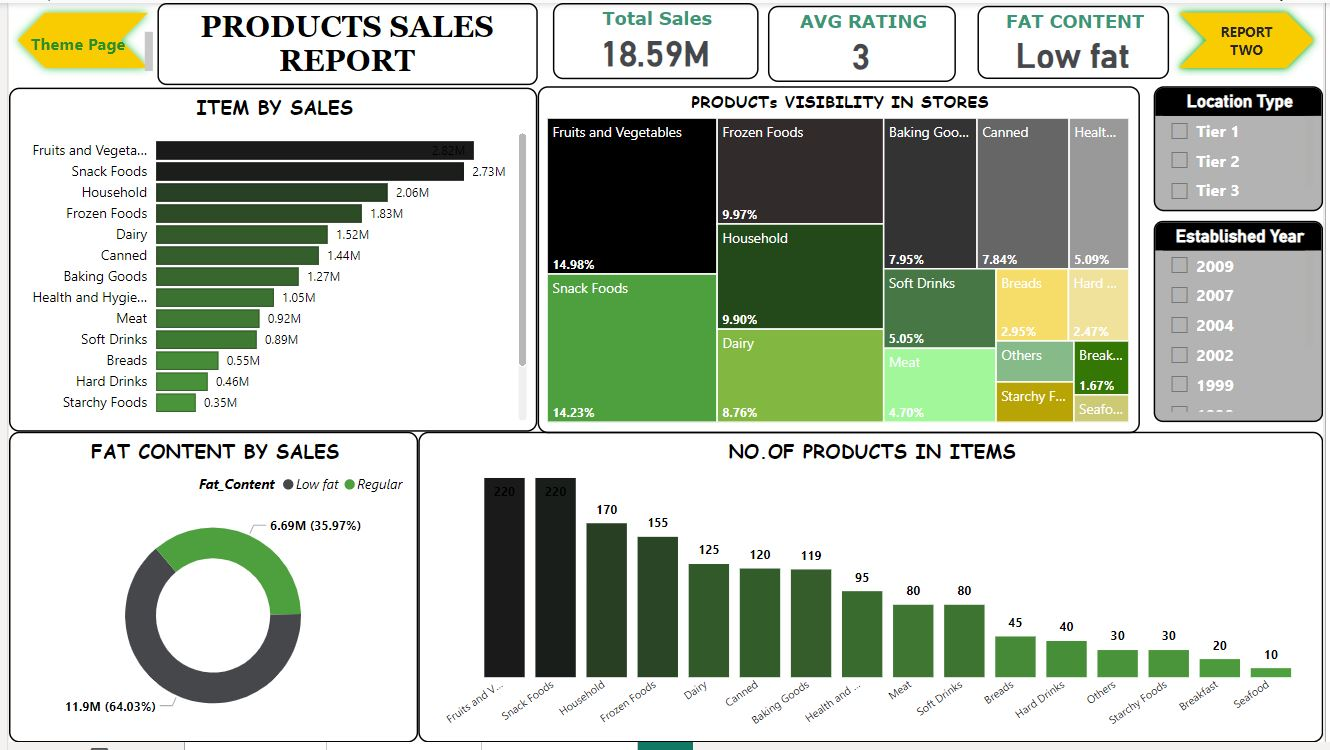

Layout of this report page (visuals, bound fields, positions):
{"tool":"powerbi","page":{"name":"REPORT ONE","canvas":[1280,720],"ordinal":1},"visuals":[{"type":"barChart","title":"ITEM BY SALES","fields":{"Category":["BlinkIT Grocery.Item_Type"],"Y":["BlinkIT Grocery.Total Sales"]},"box":[0,82.4,514.9,335.2],"z":0},{"type":"donutChart","title":"FAT CONTENT BY SALES","fields":{"Category":["BlinkIT Grocery.Item_Fat_Content"],"Y":["Sum(BlinkIT Grocery.Item_Outlet_Sales)"]},"box":[0,417.6,398.7,302.7],"z":1000},{"type":"treemap","title":"PRODUCTs VISIBILITY IN STORES","fields":{"Group":["BlinkIT Grocery.Item_Type"],"Values":["Sum(BlinkIT Grocery.Item_Visibility)"]},"box":[514.9,81.1,586.6,337.9],"z":2000},{"type":"columnChart","title":"NO.OF PRODUCTS IN ITEMS","fields":{"Category":["BlinkIT Grocery.Item_Type"],"Y":["BlinkIT Grocery.UNIQUE PRODUCTS"]},"box":[398.7,417.6,881.2,302.7],"z":3000},{"type":"card","title":"Total Sales","fields":{"Values":["Sum(BlinkIT Grocery.Item_Outlet_Sales)"]},"box":[529.8,0,200,74.3],"z":4000},{"type":"card","title":"FAT CONTENT","fields":{"Values":["Min(BlinkIT Grocery.Item_Fat_Content)"]},"box":[943.6,2.9,187,71.4],"z":5000},{"type":"shape","box":[144.6,0,370.3,79.7],"z":6000},{"type":"pageNavigator","box":[0,1.4,144.6,70.3],"z":7000},{"type":"textbox","box":[15.9,23.2,128.8,49.2],"z":8000},{"type":"slicer","title":"Location Type","fields":{"Values":["BlinkIT Grocery.Outlet_Location_Type"]},"box":[1115.4,81.2,165.1,121.8],"z":9000},{"type":"slicer","title":"Established Year","fields":{"Values":["BlinkIT Grocery.Outlet_Establishment_Year"]},"box":[1115.4,212.5,165.1,196.3],"z":10000},{"type":"pageNavigator","box":[1131.2,1.4,148.7,70.3],"z":11000},{"type":"card","title":"AVG RATING","fields":{"Values":["BlinkIT Grocery.Average Rating"]},"box":[739.5,2.9,182.7,74.2],"z":12000}]}

Visuals, with their boxes in screenshot pixels (x1, y1, x2, y2), scaled from the page's 1280x720 canvas onto the 1330x750 screenshot:
"ITEM BY SALES" barChart: (0, 86, 535, 435)
"FAT CONTENT BY SALES" donutChart: (0, 435, 414, 749)
"PRODUCTs VISIBILITY IN STORES" treemap: (535, 84, 1145, 436)
"NO.OF PRODUCTS IN ITEMS" columnChart: (414, 435, 1329, 749)
"Total Sales" card: (550, 0, 758, 77)
"FAT CONTENT" card: (980, 3, 1175, 77)
shape: (150, 0, 535, 83)
pageNavigator: (0, 1, 150, 75)
textbox: (17, 24, 150, 75)
"Location Type" slicer: (1159, 85, 1329, 211)
"Established Year" slicer: (1159, 221, 1329, 426)
pageNavigator: (1175, 1, 1329, 75)
"AVG RATING" card: (768, 3, 958, 80)
